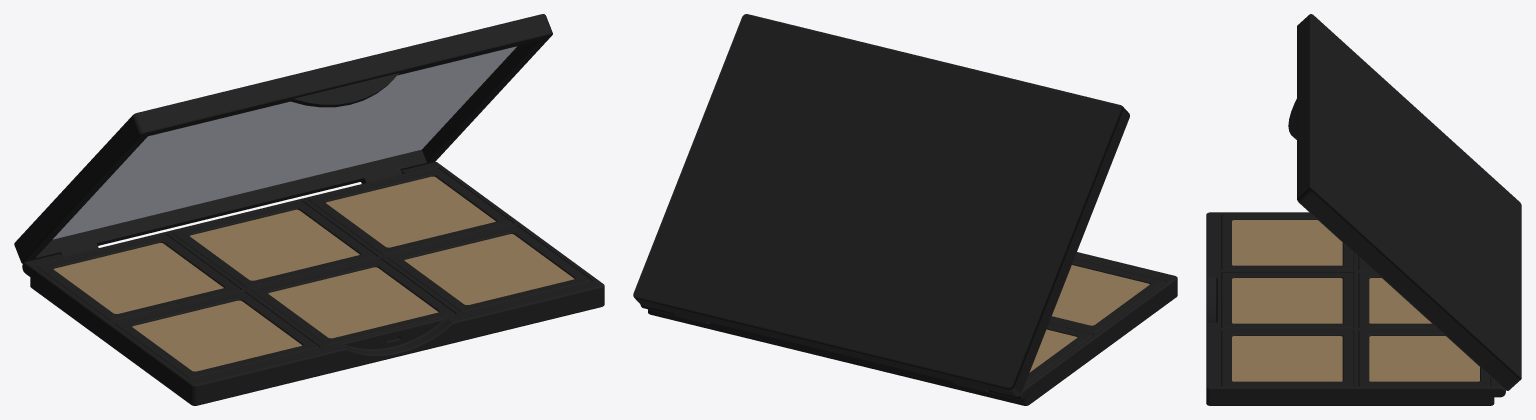
Rendered from makeup_palette.glb.
3 views of the same model, side by side, from view 1: azimuth 30°, elevation 25°; view 2: azimuth 150°, elevation 25°; view 3: azimuth 270°, elevation 25° (orthographic). The views are drawn at different scales.
Visible parts, largest first — view 1: 6 Shade Pallete (Rectangle) Style1 (×6), 6 Shade Pallete (Rectangle) Style1_Hard Shiny Plastic Black  (×6), 6 Shade Pallete (Rectangle) Style1_Mold-Tech-15080 Bump #11_, 6 Shade Pallete (Rectangle) Style1_Mold-Tech-15080 Bump #12_, 6 Shade Pallete (Rectangle) Style1_Mold-Tech-15080 Bump #13_; view 2: 6 Shade Pallete (Rectangle) Style1 (×3), 6 Shade Pallete (Rectangle) Style1_Mold-Tech-15080 Bump #12_, 6 Shade Pallete (Rectangle) Style1_Hard Shiny Plastic Black  (×2); view 3: 6 Shade Pallete (Rectangle) Style1 (×4), 6 Shade Pallete (Rectangle) Style1_Hard Shiny Plastic Black  (×5), 6 Shade Pallete (Rectangle) Style1_Mold-Tech-15080 Bump #13_, 6 Shade Pallete (Rectangle) Style1_Mold-Tech-15080 Bump #11_, 6 Shade Pallete (Rectangle) Style1_Mold-Tech-15080 Bump #12_.
Part boxes in pixels (box(x1,y1,x2,y2)): 6 Shade Pallete (Rectangle) Style1 (×6): box(14, 14, 604, 405); 6 Shade Pallete (Rectangle) Style1_Hard Shiny Plastic Black  (×6): box(37, 168, 591, 378); 6 Shade Pallete (Rectangle) Style1_Mold-Tech-15080 Bump #11_: box(404, 234, 574, 304); 6 Shade Pallete (Rectangle) Style1_Mold-Tech-15080 Bump #12_: box(132, 300, 302, 371); 6 Shade Pallete (Rectangle) Style1_Mold-Tech-15080 Bump #13_: box(268, 267, 438, 338); 6 Shade Pallete (Rectangle) Style1 (×3): box(633, 14, 1177, 405); 6 Shade Pallete (Rectangle) Style1_Mold-Tech-15080 Bump #12_: box(1052, 265, 1149, 325); 6 Shade Pallete (Rectangle) Style1_Hard Shiny Plastic Black  (×2): box(1025, 259, 1165, 384); 6 Shade Pallete (Rectangle) Style1 (×4): box(1206, 14, 1521, 405); 6 Shade Pallete (Rectangle) Style1_Hard Shiny Plastic Black  (×5): box(1221, 214, 1490, 385); 6 Shade Pallete (Rectangle) Style1_Mold-Tech-15080 Bump #13_: box(1232, 278, 1342, 323); 6 Shade Pallete (Rectangle) Style1_Mold-Tech-15080 Bump #11_: box(1232, 336, 1342, 381); 6 Shade Pallete (Rectangle) Style1_Mold-Tech-15080 Bump #12_: box(1232, 220, 1342, 265).
Bounding box in the file's own units: 0.1356 × 0.0782 × 0.1027.
